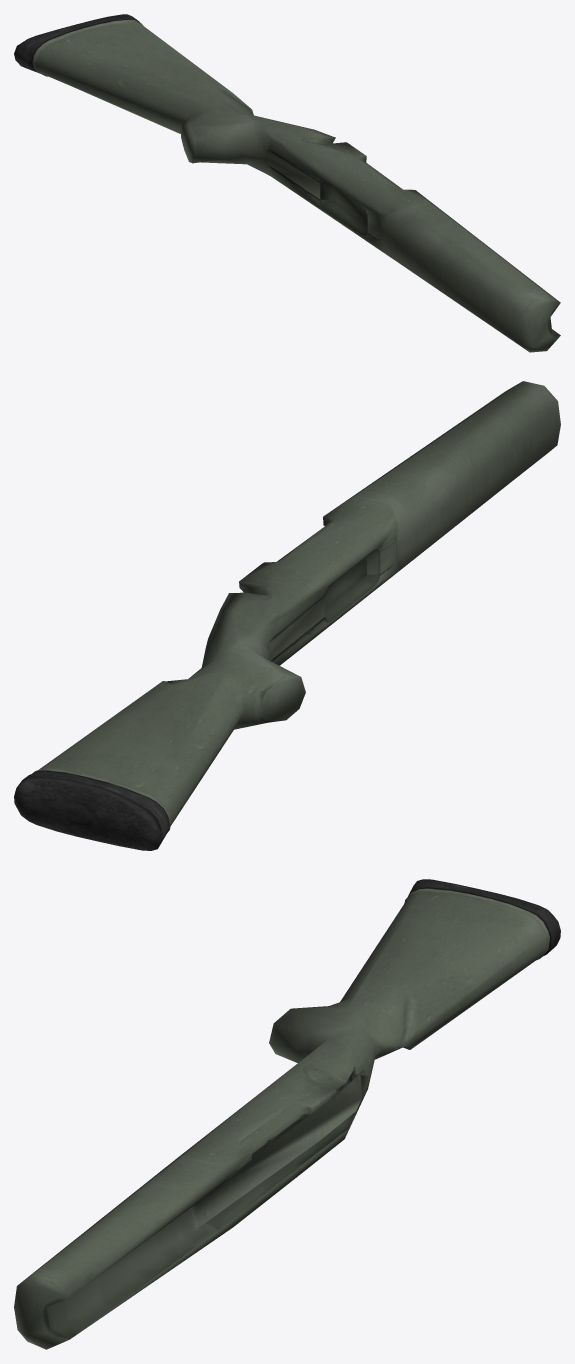
Rendered from Fiberglass_Stock.fbx.
3 views of the same model, one above another, from view 1: azimuth 30°, elevation 25°; view 2: azimuth 150°, elevation 25°; view 3: azimuth 330°, elevation 25° (orthographic). The views are drawn at different scales.
Parts seen in each view (by area): view 1: FiberglassStock; view 2: FiberglassStock; view 3: FiberglassStock.
Boxes of the visible parts, left/top/right/bottom form: FiberglassStock: left=14, top=14, right=560, bottom=352; FiberglassStock: left=14, top=381, right=560, bottom=850; FiberglassStock: left=14, top=879, right=560, bottom=1349.
Size of the model in its own units: 0.0891 by 0.0339 by 0.4551.
